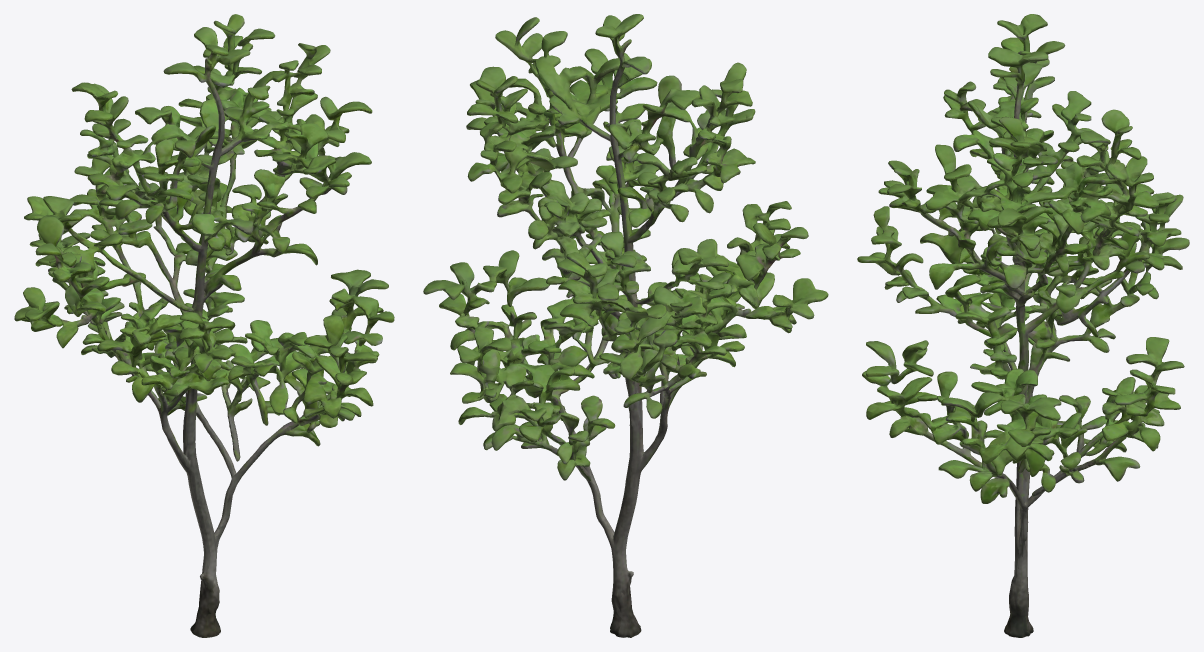
File: alder-sapling-v13.glb
3 views of the same model, side by side, from view 1: azimuth 30°, elevation 25°; view 2: azimuth 150°, elevation 25°; view 3: azimuth 270°, elevation 25° (orthographic). The views are drawn at different scales.
Parts seen in each view (by area): view 1: geometry_0; view 2: geometry_0; view 3: geometry_0.
Part boxes in pixels (x1,y1,x2,y2): geometry_0: (14,14,394,637); geometry_0: (423,14,828,637); geometry_0: (857,14,1189,637).
Bounding box in the file's own units: 1.93 × 3 × 1.55.
Materials: 1 (1 with a texture image).
